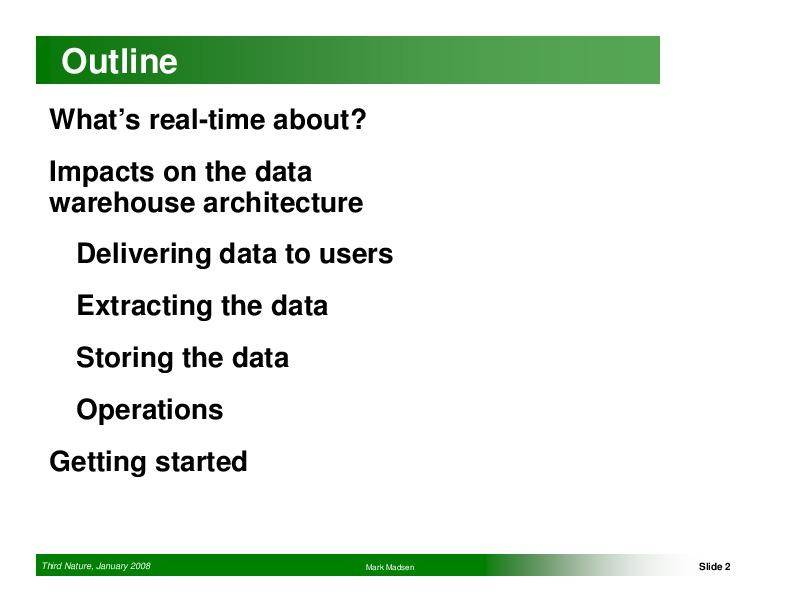paragraph: (40, 102, 461, 500)
title: (52, 41, 219, 88)
